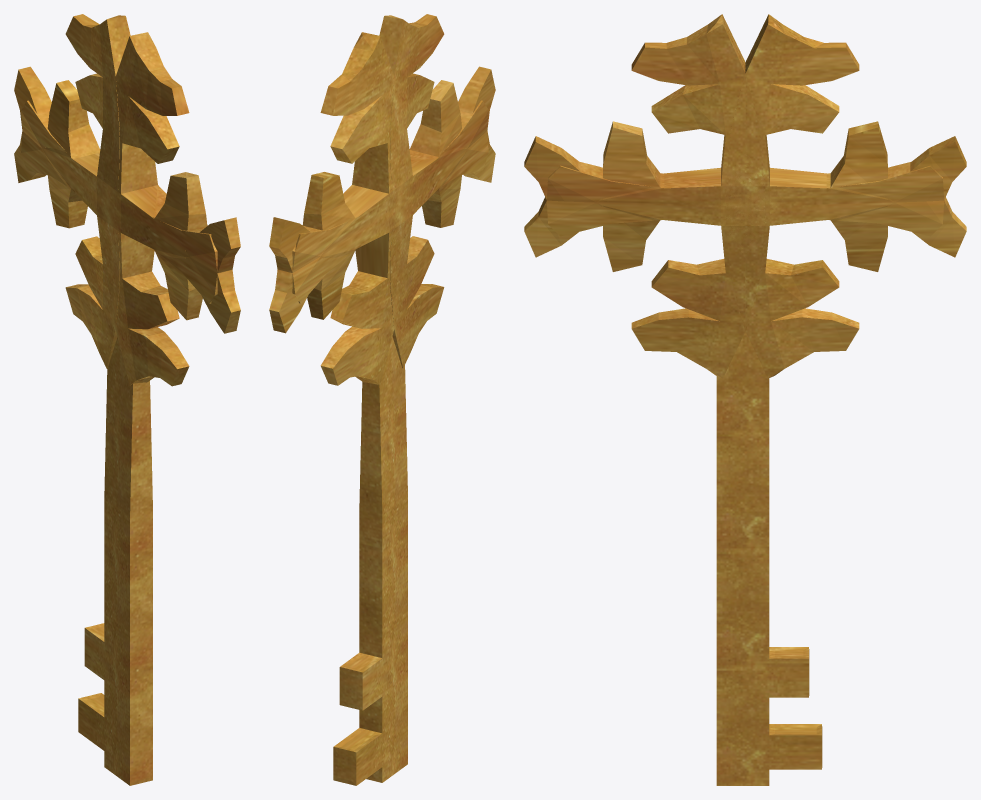
The model's file is sg-golden-key.obj.
3 renders of one model, left to right at view 1: azimuth 30°, elevation 25°; view 2: azimuth 150°, elevation 25°; view 3: azimuth 270°, elevation 25°, orthographic. The views are drawn at different scales.
Parts seen in each view (by area): view 1: Cube_Cube.001; view 2: Cube_Cube.001; view 3: Cube_Cube.001.
Part boxes in pixels (x1,y1,x2,y2): Cube_Cube.001: (14, 14, 240, 785); Cube_Cube.001: (269, 14, 495, 785); Cube_Cube.001: (524, 14, 966, 785).
Size of the model in its own units: 0.678 by 13.06 by 6.86.
